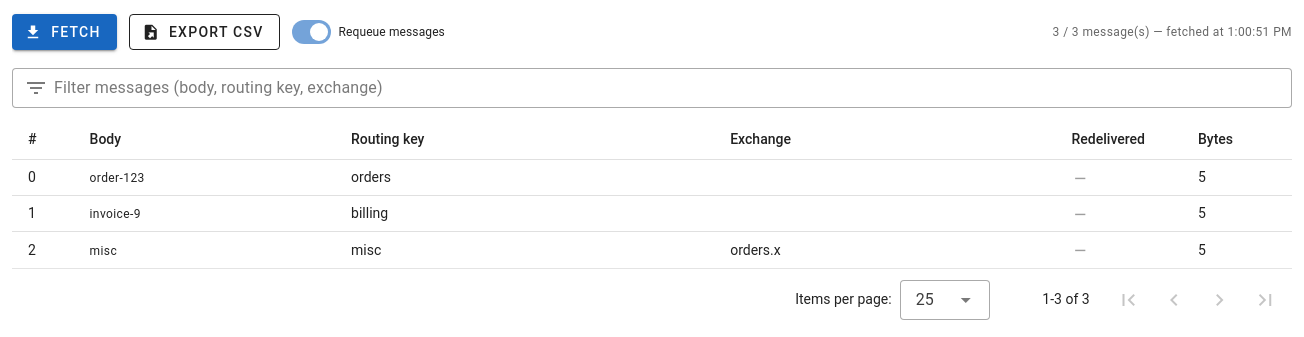
QueueMessageList › filters rows client-side based on body / routing key / exchange
The image size is (1304, 337).
Type "order" into the field labelled "Filter messages (body, routing key, exchange)" at (664, 88), box [48,68,1280,108]
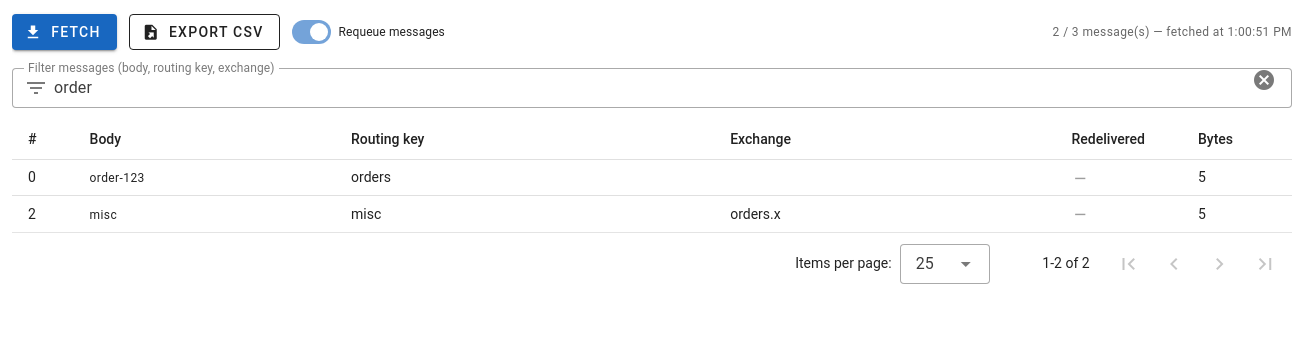
Expected: the text "order-123" is shown, [90,171,145,185]
Expected: the text "invoice-9" is gone
Expected: the text with test id "last-fetch" shows "2 / 3", [1053,25,1292,39]
